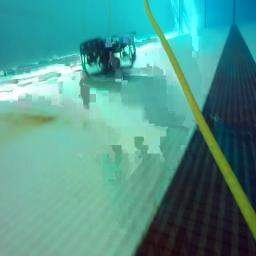front: (80, 32, 137, 78)
